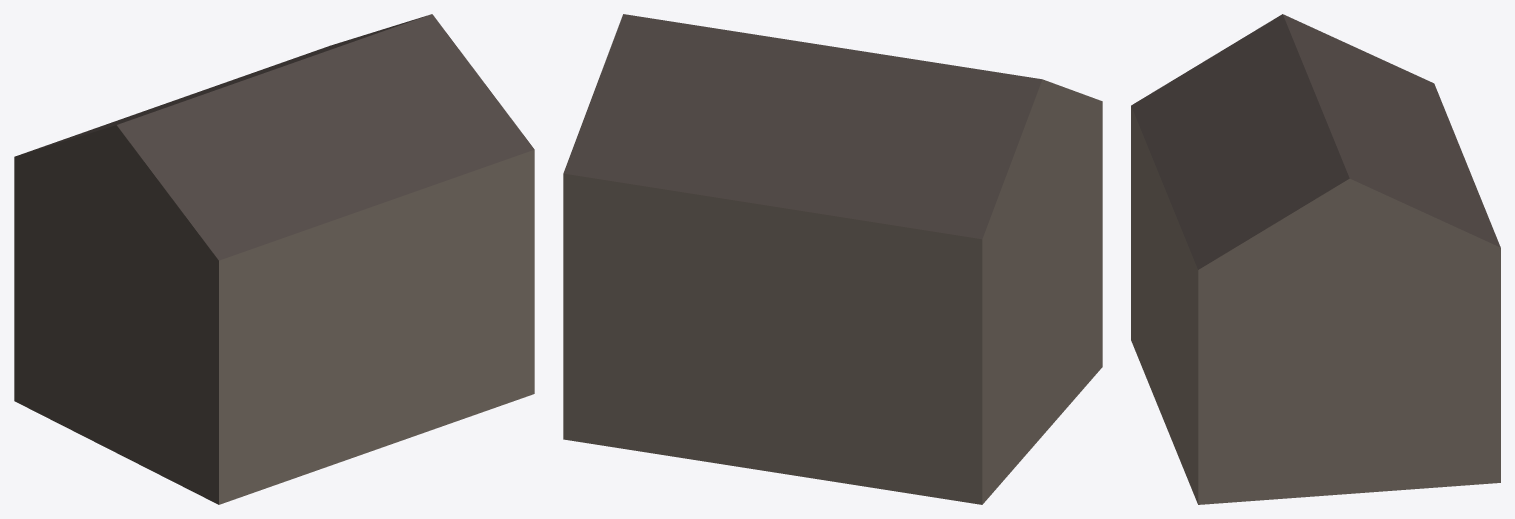
The picture shows the model from 3 angles, left to right: view 1: azimuth 30°, elevation 25°; view 2: azimuth 150°, elevation 25°; view 3: azimuth 270°, elevation 25°; orthographic projection. The views are drawn at different scales.
Visible parts, largest first — view 1: HP-w1424106462; view 2: HP-w1424106462; view 3: HP-w1424106462.
Boxes of the visible parts, left/top/right/bottom form: HP-w1424106462: left=14, top=14, right=534, bottom=504; HP-w1424106462: left=563, top=14, right=1102, bottom=504; HP-w1424106462: left=1131, top=14, right=1500, bottom=504.
Size of the model in its own units: 10.22 by 8.06 by 8.56.
